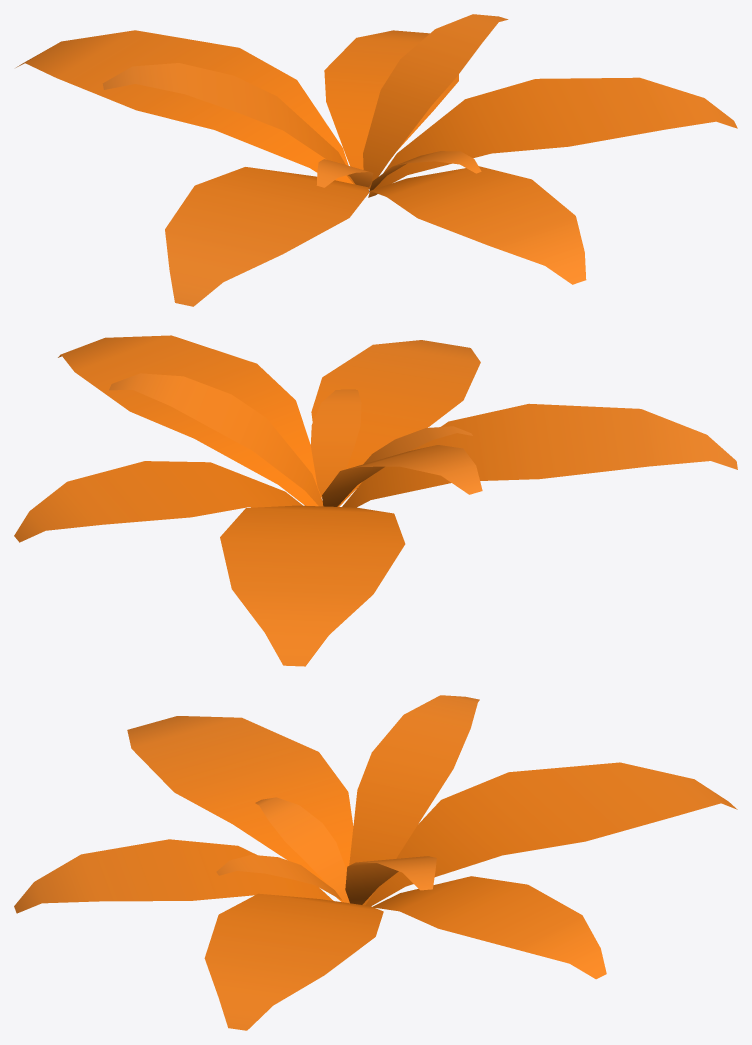
The model's file is plant3_002.fbx.
3 renders of one model, top to bottom at view 1: azimuth 30°, elevation 25°; view 2: azimuth 150°, elevation 25°; view 3: azimuth 270°, elevation 25°, orthographic. The views are drawn at different scales.
Parts seen in each view (by area): view 1: plant3.002; view 2: plant3.002; view 3: plant3.002.
Part boxes in pixels (box(x1,y1,x2,y2)): plant3.002: box(16, 14, 737, 306); plant3.002: box(14, 335, 737, 666); plant3.002: box(14, 695, 737, 1030).
Bounding box in the file's own units: 40.92 × 7.92 × 41.89.
